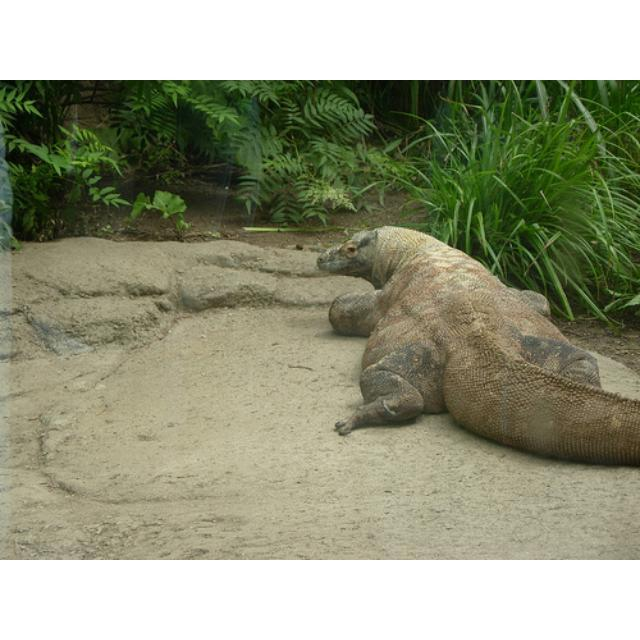KomodoDragon: (317, 224, 638, 468)
